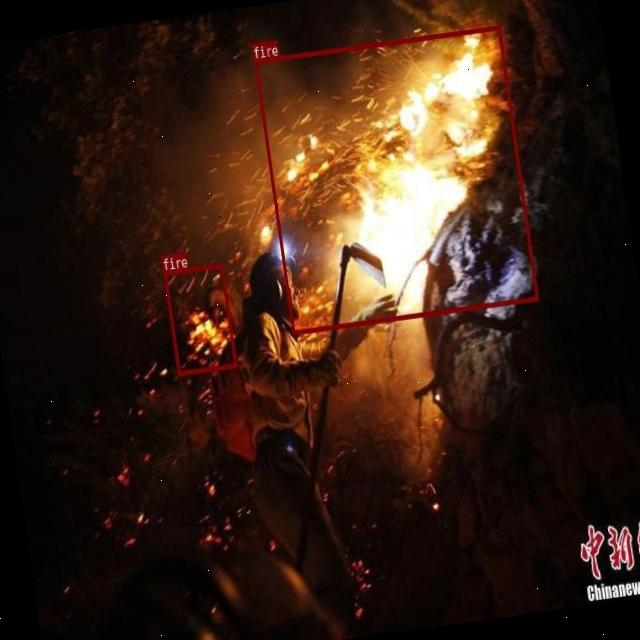fire: (254, 24, 539, 334), (164, 262, 238, 375)
